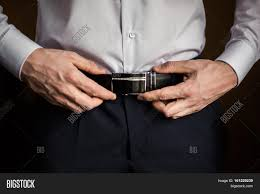F_belt: (76, 63, 204, 103)
